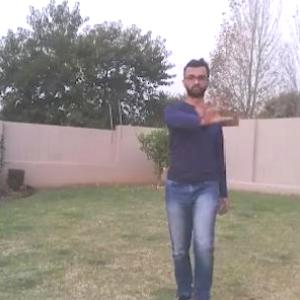follow_hand: (197, 91, 233, 126)
